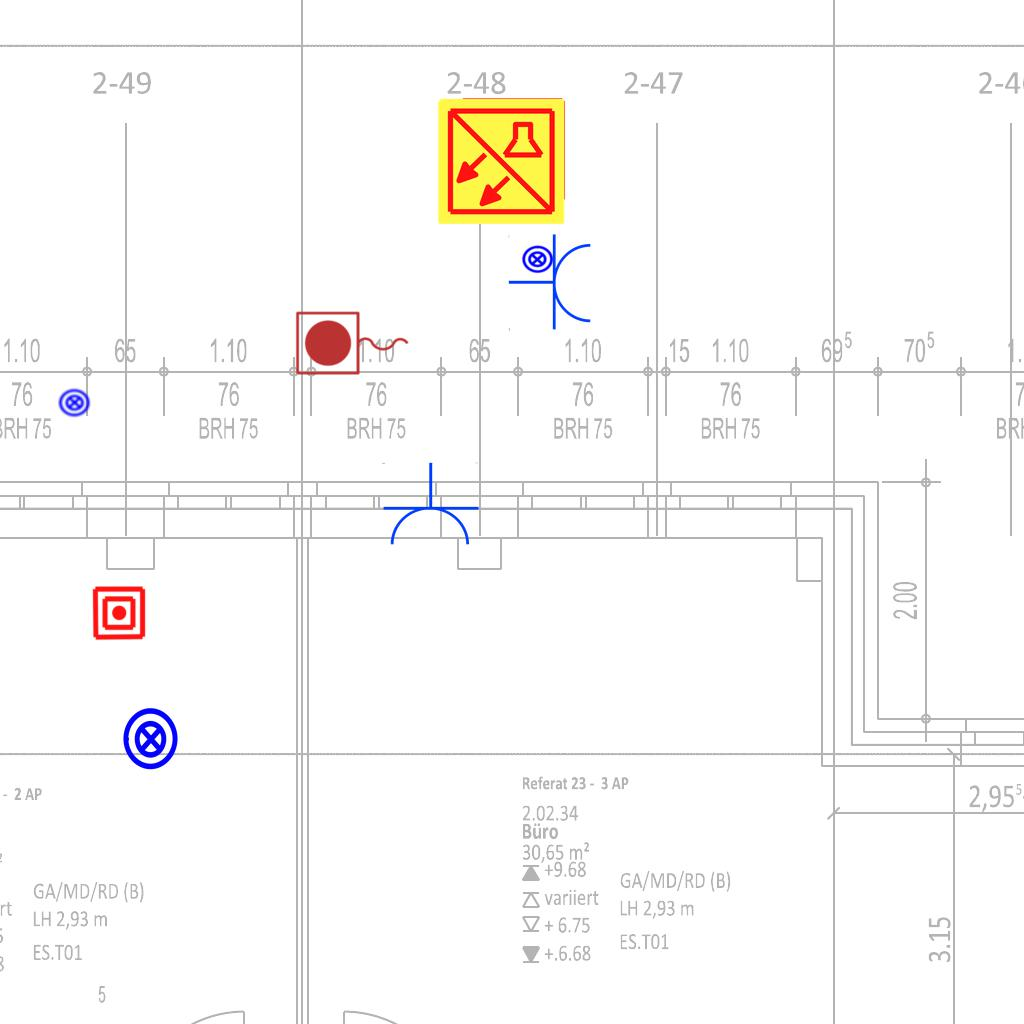NAM-Nichtautomatischer_Melder: (91, 585, 147, 641)
OKW_Multisensormelder_(Kombination_optischer_Rauch-Kahlenmonoxid_Waerme-Melder): (435, 95, 567, 227)
Schukosteckdose_einfach: (508, 233, 595, 333), (380, 462, 480, 549)
Taster_beleuchtet: (118, 706, 184, 772), (58, 386, 91, 419), (521, 243, 554, 276)
Zugtaster: (292, 308, 414, 380)
